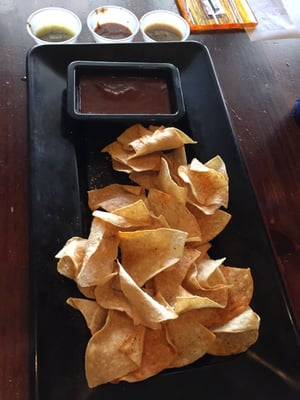pizza: (86, 5, 143, 43), (139, 10, 190, 42)
sushi: (26, 7, 83, 45), (86, 5, 143, 43)
